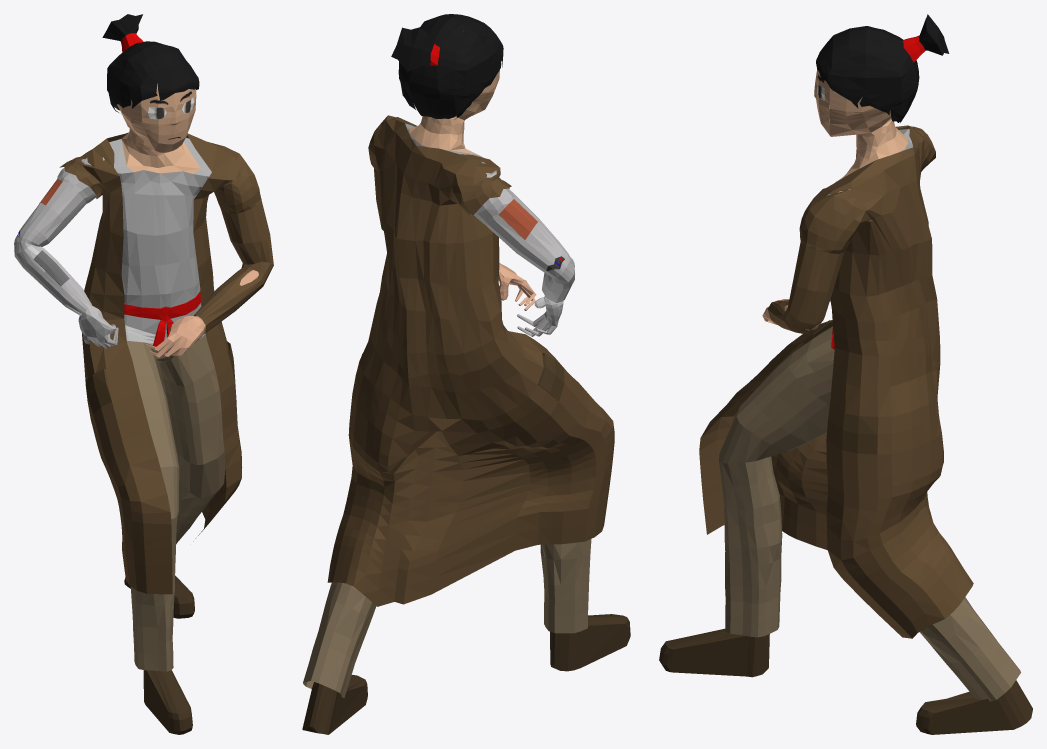
The model's file is One_Bash_000010.obj.
The picture shows the model from 3 angles, left to right: view 1: azimuth 30°, elevation 25°; view 2: azimuth 150°, elevation 25°; view 3: azimuth 270°, elevation 25°; orthographic projection. The views are drawn at different scales.
Parts seen in each view (by area): view 1: Hair_Cube.004; view 2: Hair_Cube.004; view 3: Hair_Cube.004.
Part boxes in pixels (x1,y1,x2,y2): Hair_Cube.004: [14, 14, 273, 734]; Hair_Cube.004: [302, 14, 630, 734]; Hair_Cube.004: [659, 14, 1032, 734].
Size of the model in its own units: 1.35 by 3.72 by 1.85.
